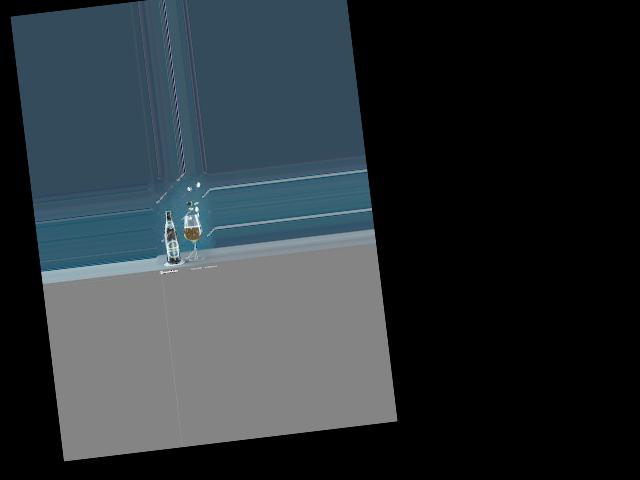beer: (162, 210, 180, 264)
